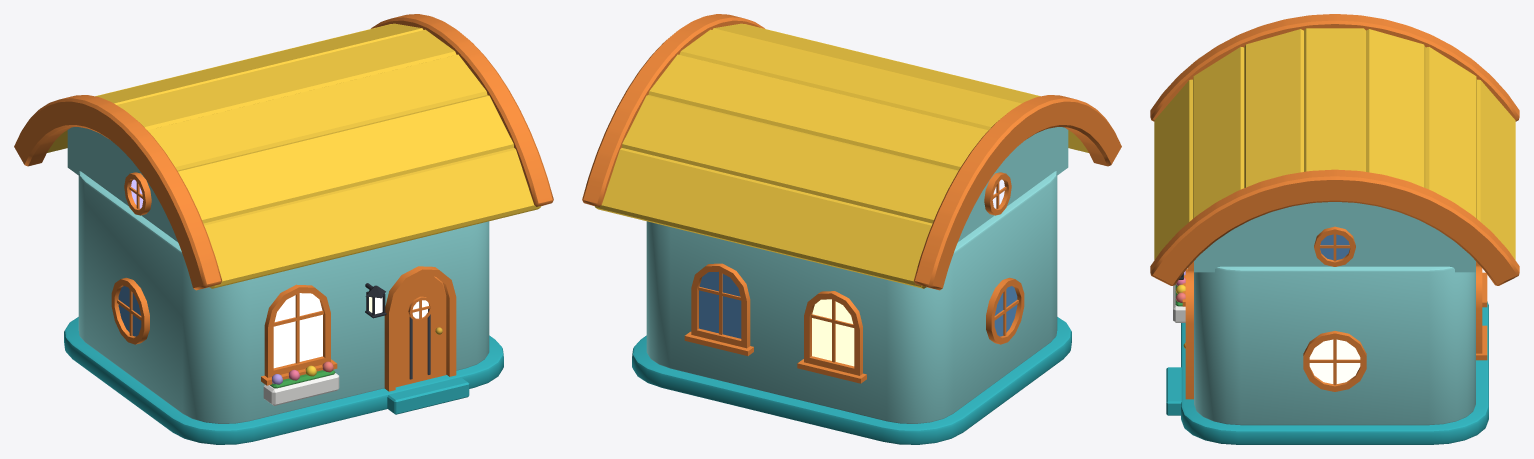
The model's file is casinha_arredondada_turquesa.glb.
3 renders of one model, left to right at view 1: azimuth 30°, elevation 25°; view 2: azimuth 150°, elevation 25°; view 3: azimuth 270°, elevation 25°, orthographic. The views are drawn at different scales.
Visible parts, largest first — view 1: casinha_arredondada_turquesa; view 2: casinha_arredondada_turquesa; view 3: casinha_arredondada_turquesa.
Part boxes in pixels (<box>): casinha_arredondada_turquesa: <box>14,14,553,444</box>; casinha_arredondada_turquesa: <box>582,14,1121,444</box>; casinha_arredondada_turquesa: <box>1150,14,1519,444</box>.
Size of the model in its own units: 7.46 by 5.81 by 7.07.
Materials: 6 (1 with a texture image).
